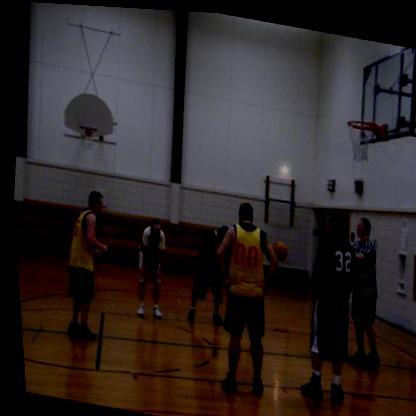basketball: (268, 237, 288, 262)
